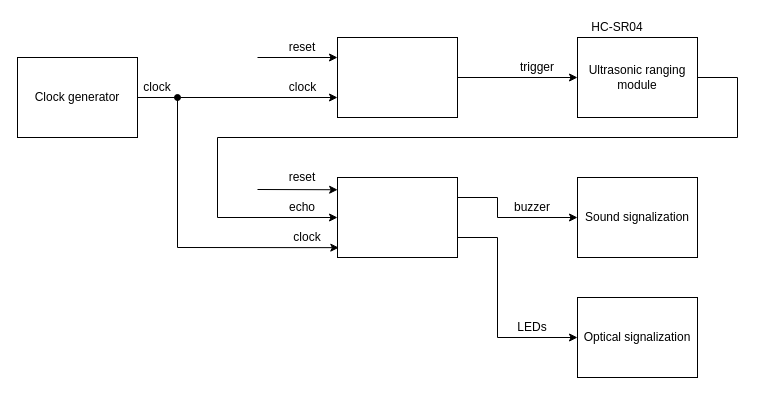
Some shapes in this 763 by 395 pixel diagram are drawn without their labels. The shapes that lost their labels are listed below. From the top down, each one's centre as x and y in pixels, then its label:
At [397,77]: "Trigger generator".
At [397,217]: "Distance counter".
